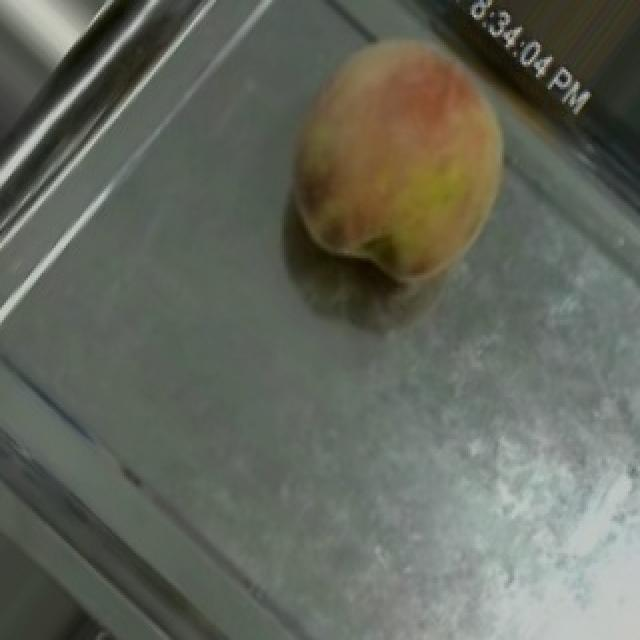Fruit: (244, 0, 556, 315)
